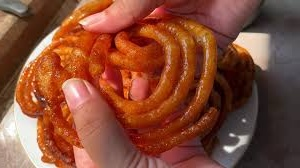pani_walalu: (15, 11, 219, 164)
